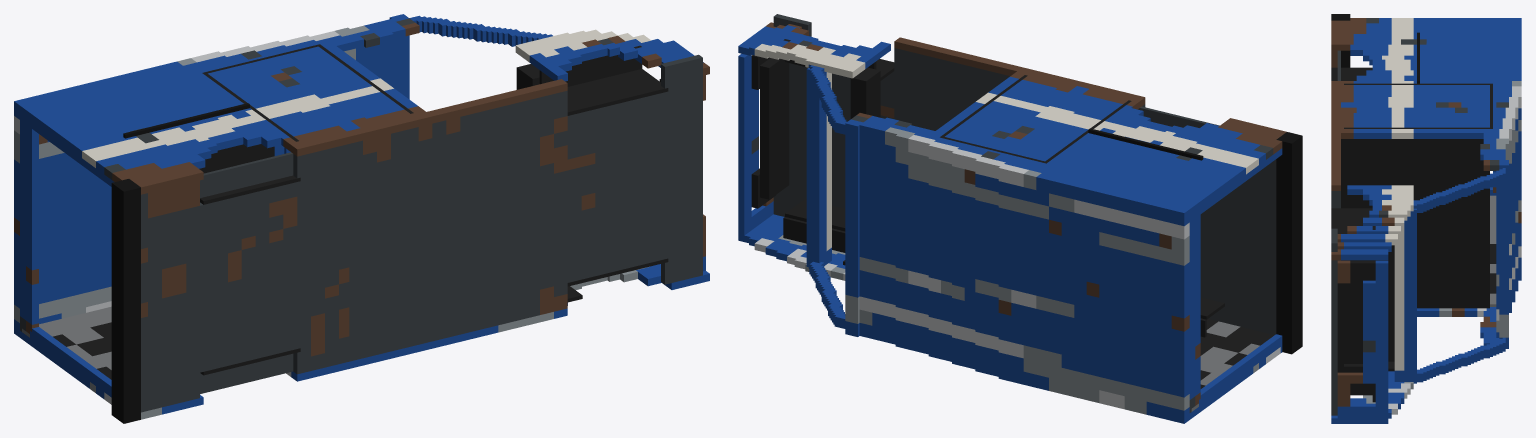
File: overturned_delivery_van_shell.glb
3 renders of one model, left to right at view 1: azimuth 30°, elevation 25°; view 2: azimuth 150°, elevation 25°; view 3: azimuth 270°, elevation 25°, orthographic. The views are drawn at different scales.
Parts seen in each view (by area): view 1: body:compound; view 2: body:compound; view 3: body:compound.
Part boxes in pixels (x1,y1,x2,y2): body:compound: (14,14,709,423); body:compound: (738,14,1302,423); body:compound: (1331,14,1521,423).
Bounding box in the file's own units: 5.28 × 2.03 × 1.88.
